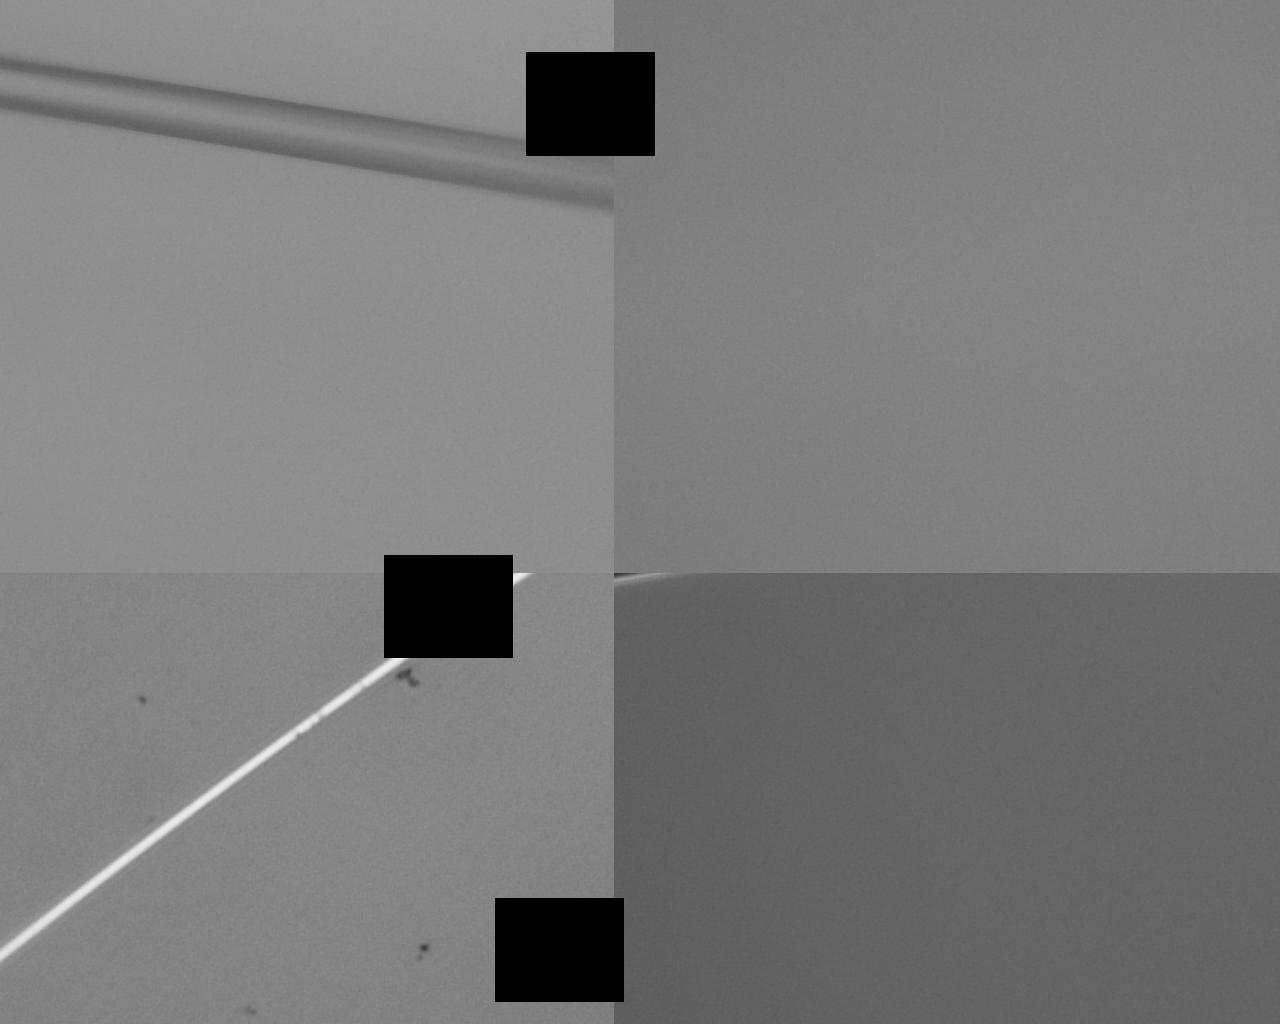fiber: (127, 504, 1151, 624)
